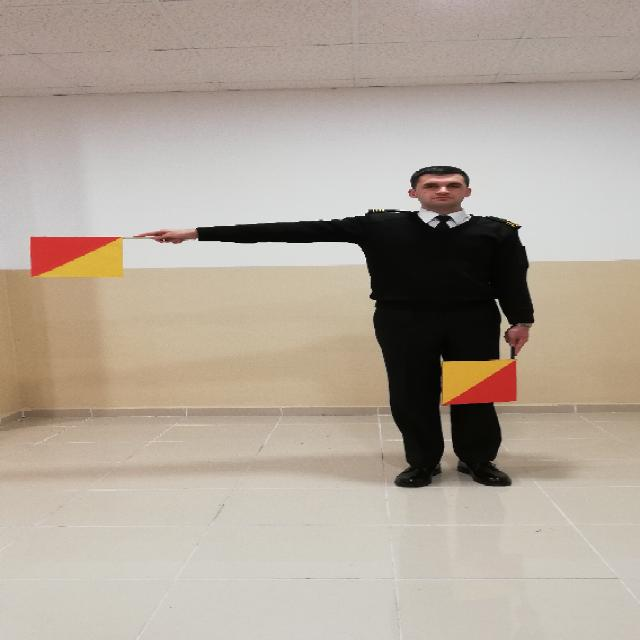A: (21, 157, 588, 508)
